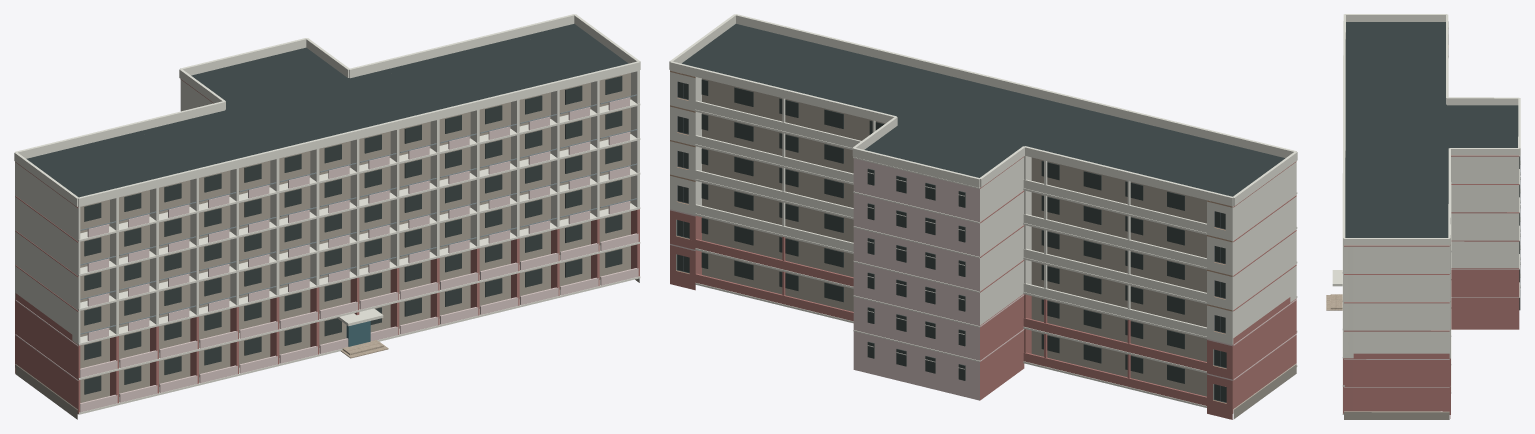
File: chunk-dorm-way-759147080.glb
3 renders of one model, left to right at view 1: azimuth 30°, elevation 25°; view 2: azimuth 150°, elevation 25°; view 3: azimuth 270°, elevation 25°, orthographic. The views are drawn at different scales.
Visible parts, largest first — view 1: chunk-dorm-way-759147080; view 2: chunk-dorm-way-759147080; view 3: chunk-dorm-way-759147080.
Boxes of the visible parts, <box> form: chunk-dorm-way-759147080: <box>14,14,640,419</box>; chunk-dorm-way-759147080: <box>669,14,1297,419</box>; chunk-dorm-way-759147080: <box>1326,14,1520,419</box>.
Bounding box in the file's own units: 56.26 × 21.15 × 20.53.
11 materials, 1 textured.
